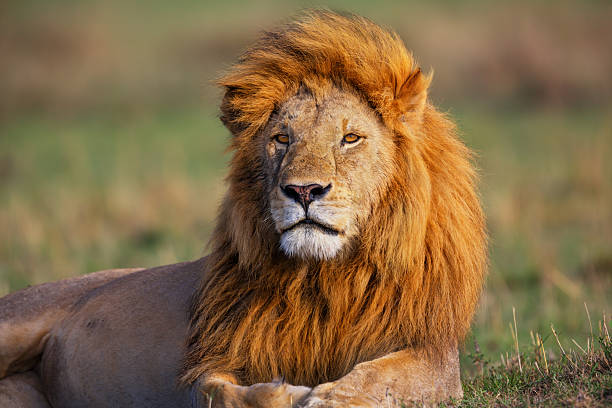lion: (164, 6, 507, 407)
